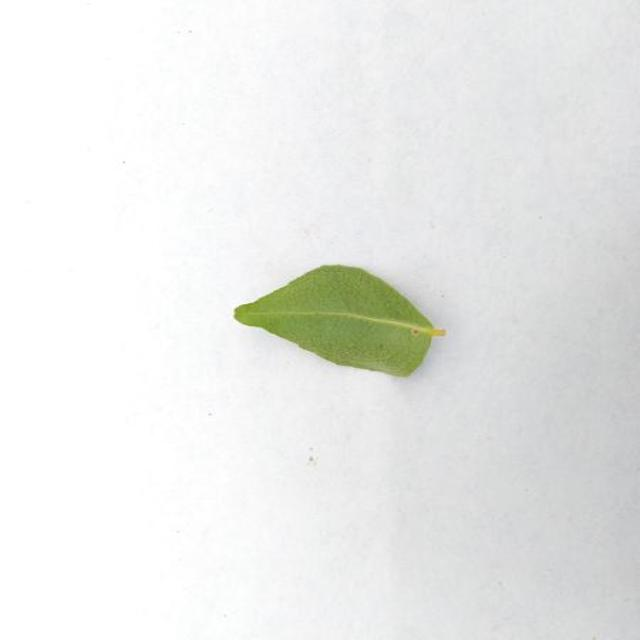curry: (235, 266, 445, 376)
